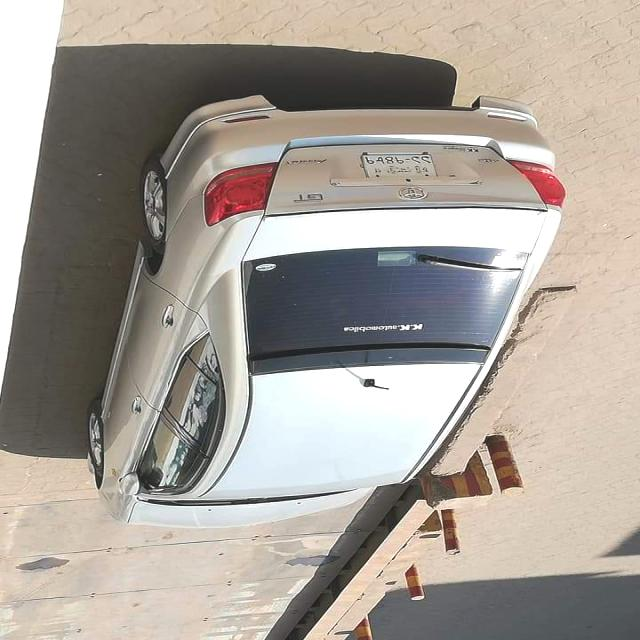silver: (85, 89, 568, 527)
